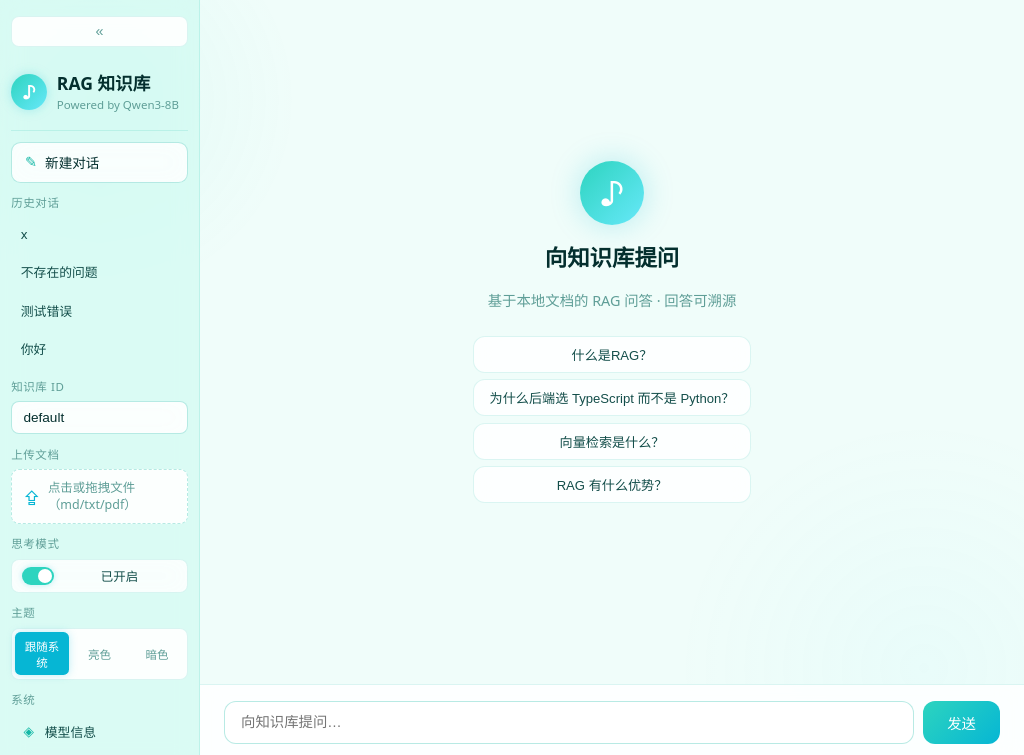
Scenario: M3 流式问答页 › 422 非法请求：显示问题不能为空
In the field with placeholder "向知识库提问…": (569,722) [224,701,914,744], type "x"
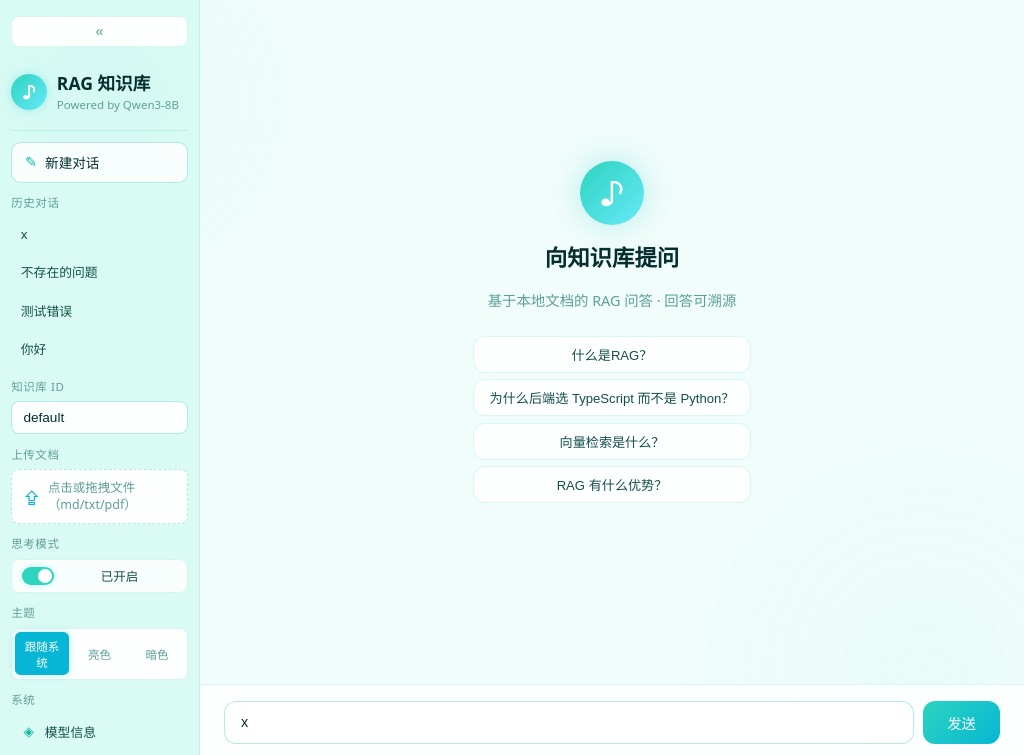
Click the button "发送": (962,722) [923,701,1000,744]
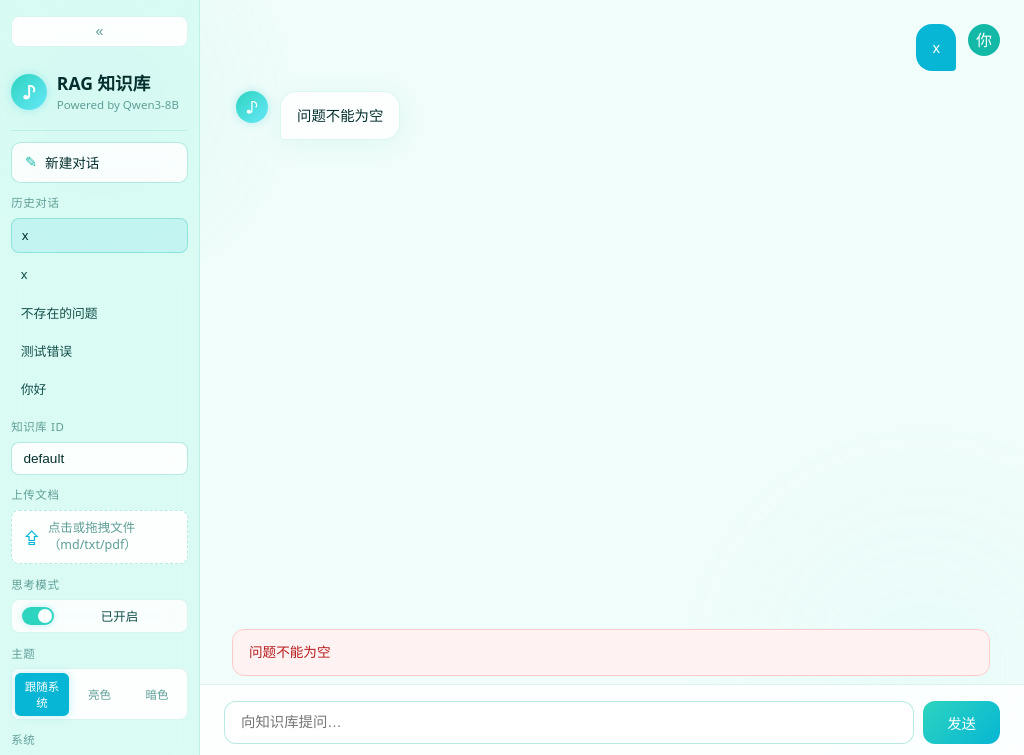
Check: the text "问题不能为空" is shown, box [280,91,400,140]
